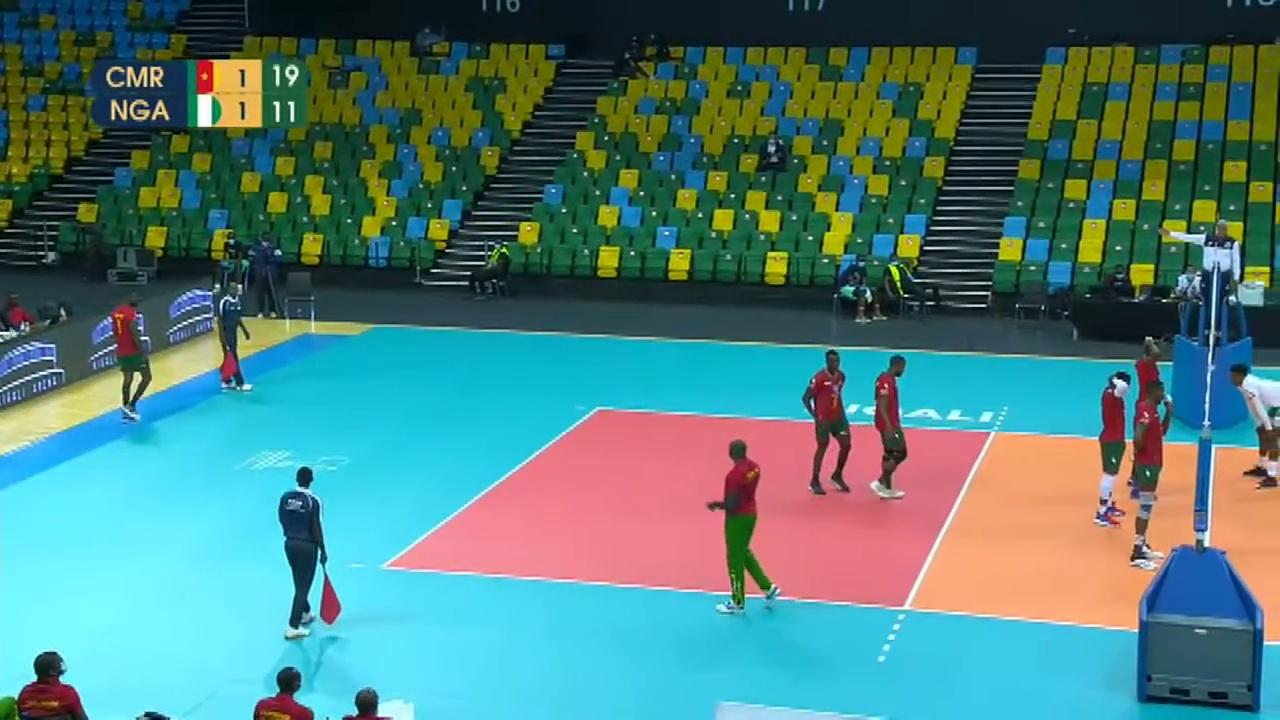player: (802, 348, 855, 493), (1132, 379, 1171, 576), (1129, 324, 1169, 502), (1088, 369, 1131, 533), (1229, 353, 1280, 490), (106, 292, 157, 421), (871, 356, 916, 497)
refree: (278, 469, 338, 636), (1181, 216, 1241, 342), (217, 286, 255, 392)
